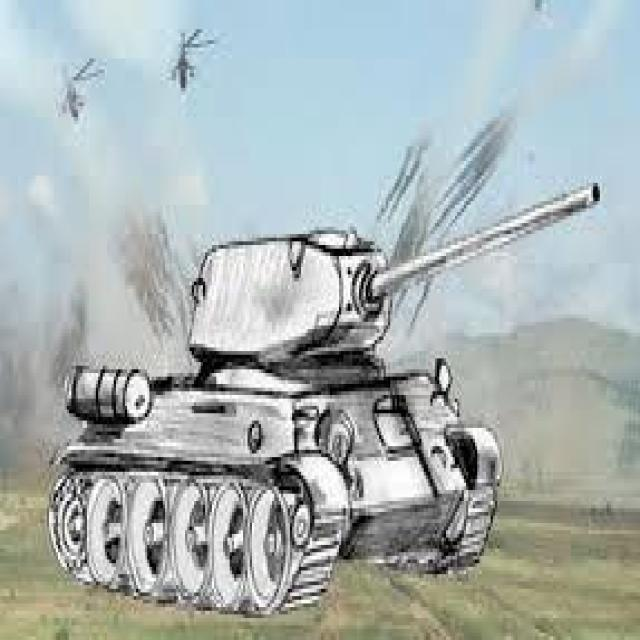Tanks: (51, 203, 508, 624)
